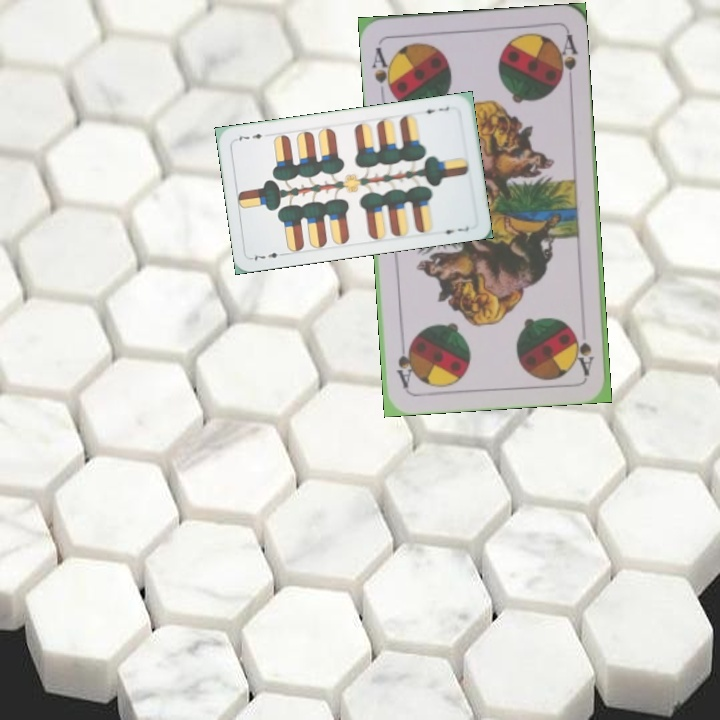E7: (248, 248, 280, 263), (418, 102, 452, 116)
SA: (368, 43, 397, 99), (572, 330, 597, 377)
